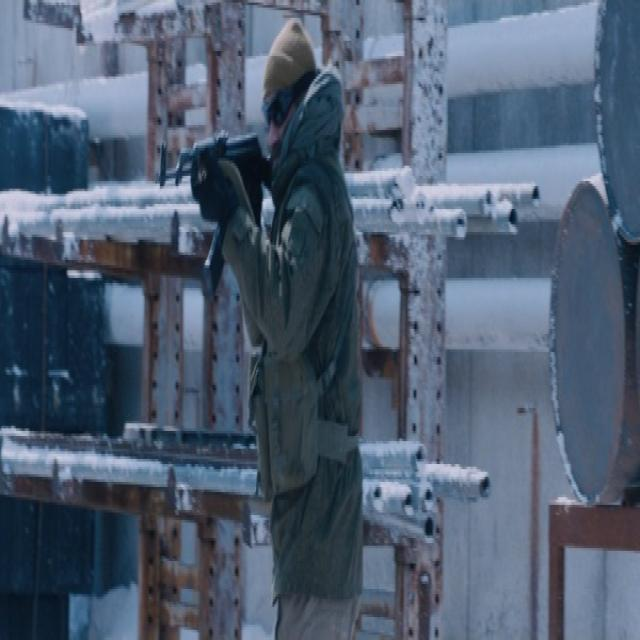rifle: (157, 125, 273, 280)
